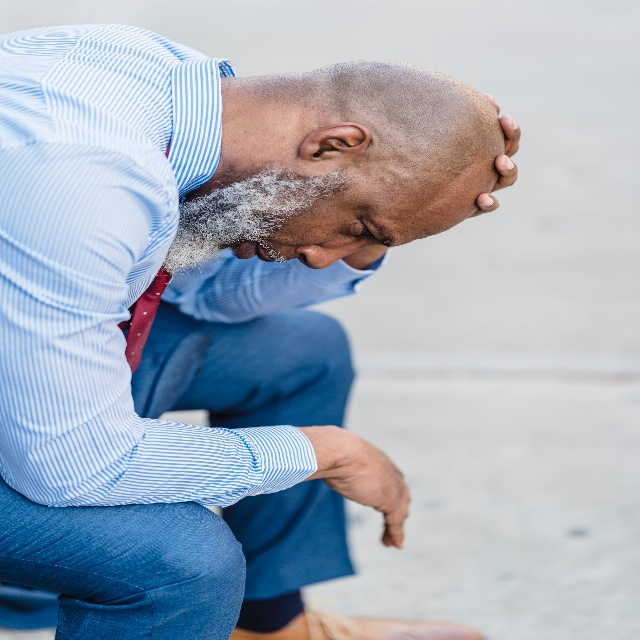Sin_guantes: (326, 420, 412, 551), (469, 87, 521, 218)
